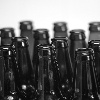beer: (36, 41, 62, 100)
